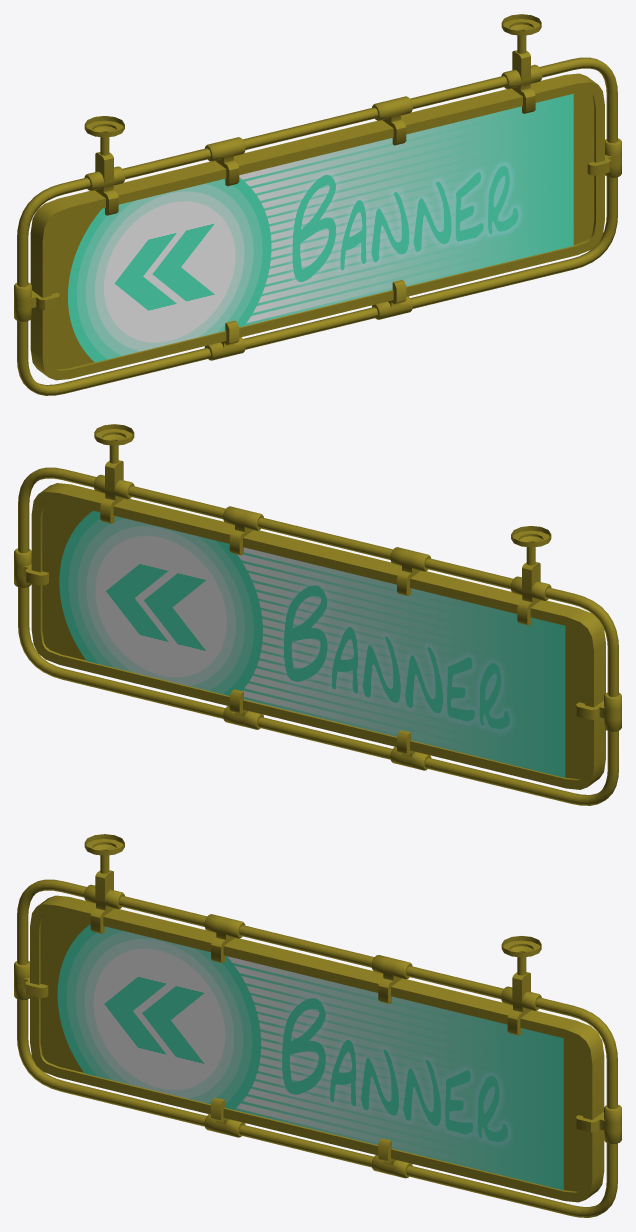
Rendered from Banner_A.FBX.
3 renders of one model, top to bottom at view 1: azimuth 30°, elevation 25°; view 2: azimuth 150°, elevation 25°; view 3: azimuth 330°, elevation 25°, orthographic.
Visible parts, largest first — view 1: Banner_A_Picture, Banner_A; view 2: Banner_A_Picture, Banner_A; view 3: Banner_A_Picture, Banner_A.
Part boxes in pixels (left/top/right/bottom): Banner_A_Picture: left=68, top=93, right=573, bottom=362; Banner_A: left=14, top=14, right=621, bottom=395; Banner_A_Picture: left=59, top=510, right=565, bottom=777; Banner_A: left=14, top=424, right=621, bottom=805; Banner_A_Picture: left=57, top=924, right=563, bottom=1190; Banner_A: left=14, top=834, right=621, bottom=1217.
Size of the model in its own units: 436 by 180 by 25.05.
2 materials, 1 textured.
